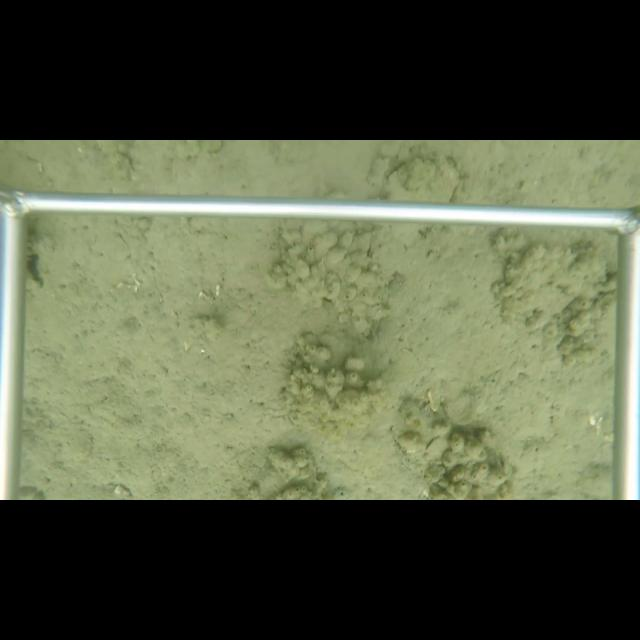Oyster-Closed: (490, 240, 607, 332), (386, 155, 466, 203)
